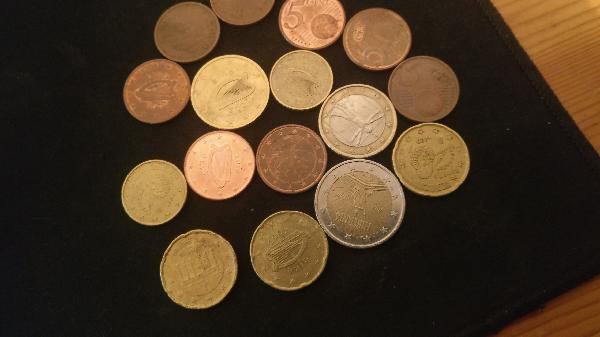Fifty Cent: (194, 54, 271, 127)
Five Cent: (385, 59, 466, 125), (185, 133, 259, 199), (255, 125, 323, 195), (342, 10, 414, 73), (150, 1, 220, 65), (126, 57, 192, 122), (276, 1, 346, 50), (209, 1, 275, 26)
One Euro: (321, 83, 397, 161)
Ten Cent: (119, 163, 194, 225), (270, 47, 333, 109)
Twenty Cent: (249, 209, 332, 292), (159, 226, 237, 310), (391, 124, 473, 196)
Two Euro: (317, 159, 404, 249)
